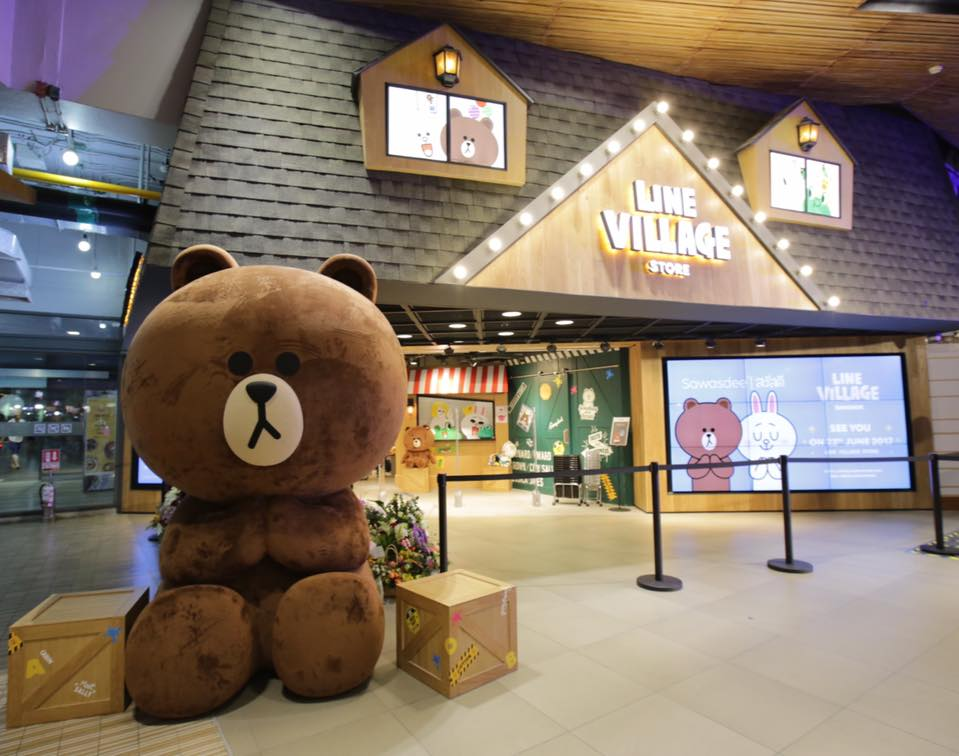line_brown: (121, 239, 427, 509), (673, 392, 748, 465), (435, 104, 501, 175)
